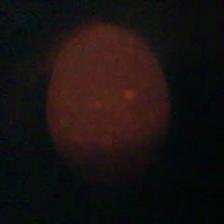fertile: (42, 20, 174, 184)
